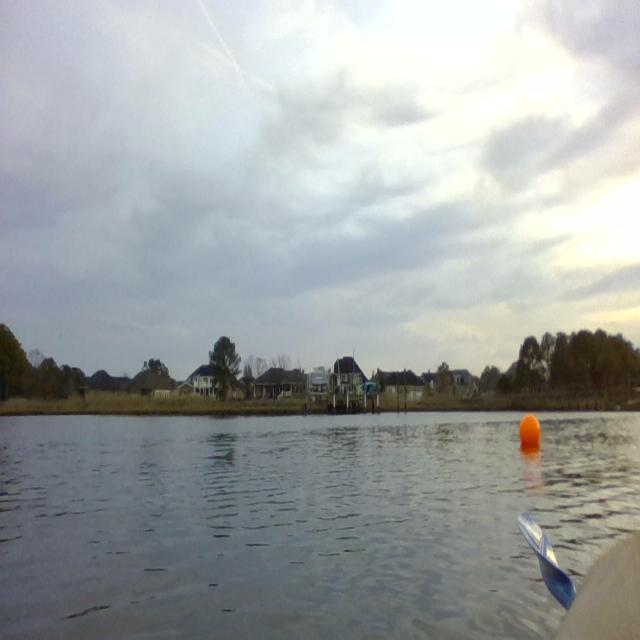Buoy: (518, 408, 542, 449)
